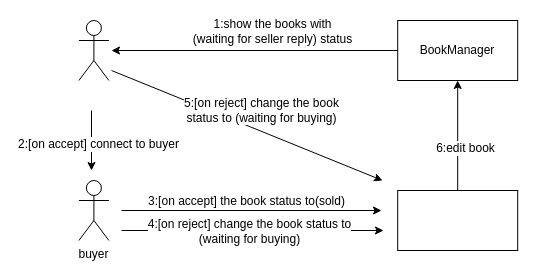
This 535x279 diagram has some shape labels left out. Each missing label, with the centre of its shape:
"book" goes at (x=457, y=220).
"seller" goes at (x=93, y=50).
